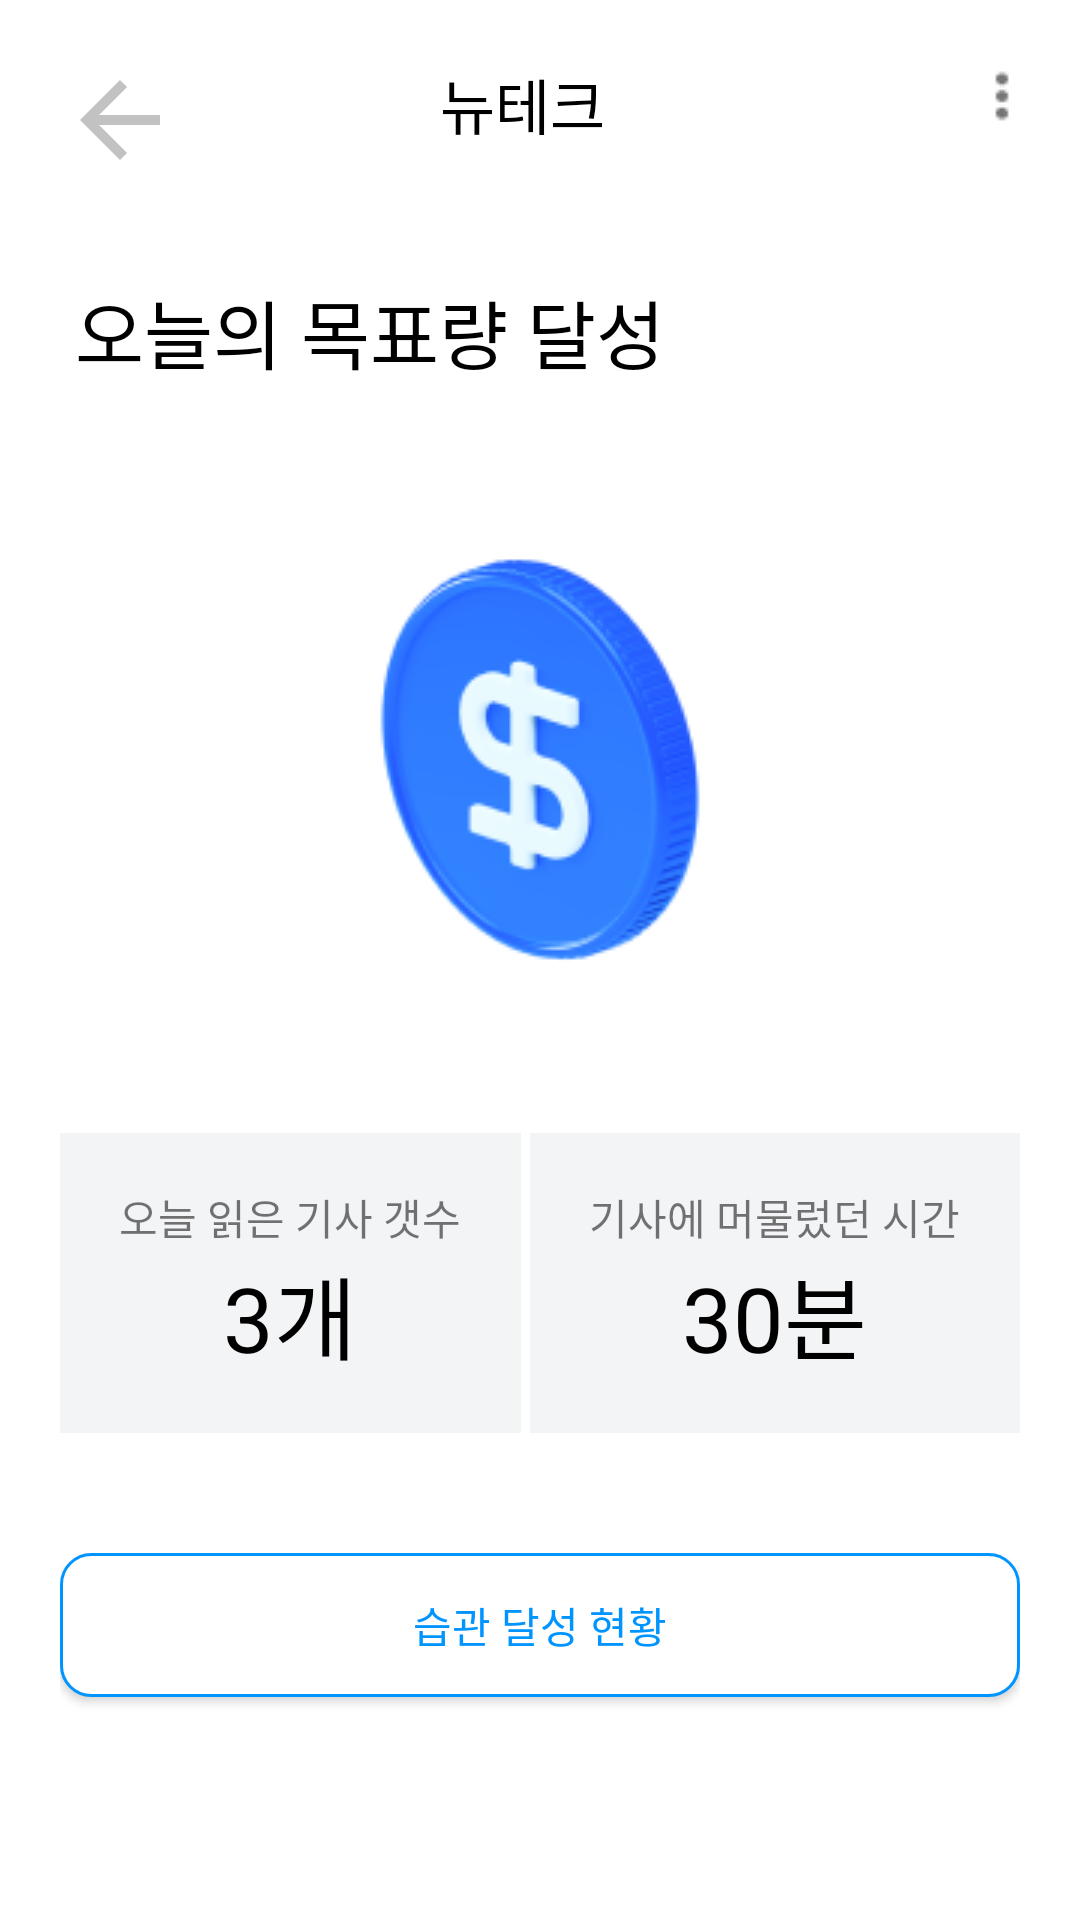

Icons on this 1080×1920 Android screen, each with the point to tap as [x,y]:
arrow back: [120,120]
more: [1002,96]
